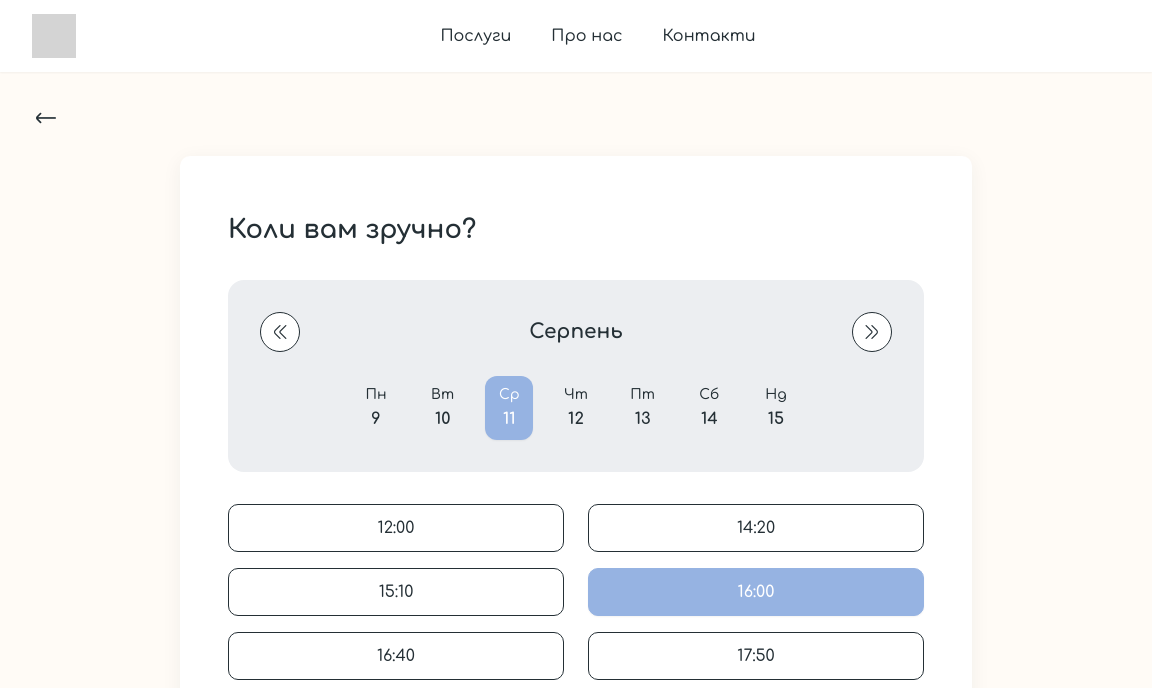
Scenario: BookingPage › renders stage 4 datetime selection, selects slot and advances to stage 5
Expected: the heading "Коли вам зручно?" is shown, [228,215,476,244]
Expected: the heading "Серпень" is shown, [529,318,623,346]
Click the button named "Чт12": [576, 408] box [552,376,600,440]
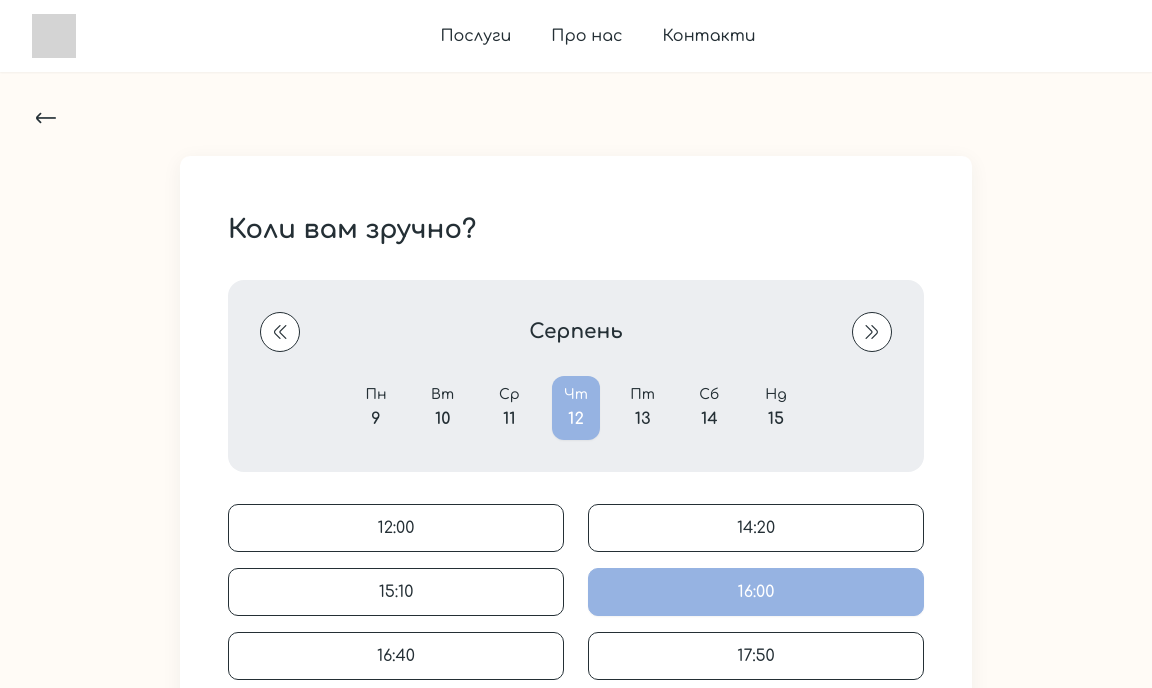
Click the radio button labelled "12:00": [396, 528] box [228,504,564,552]
(page scrolled)
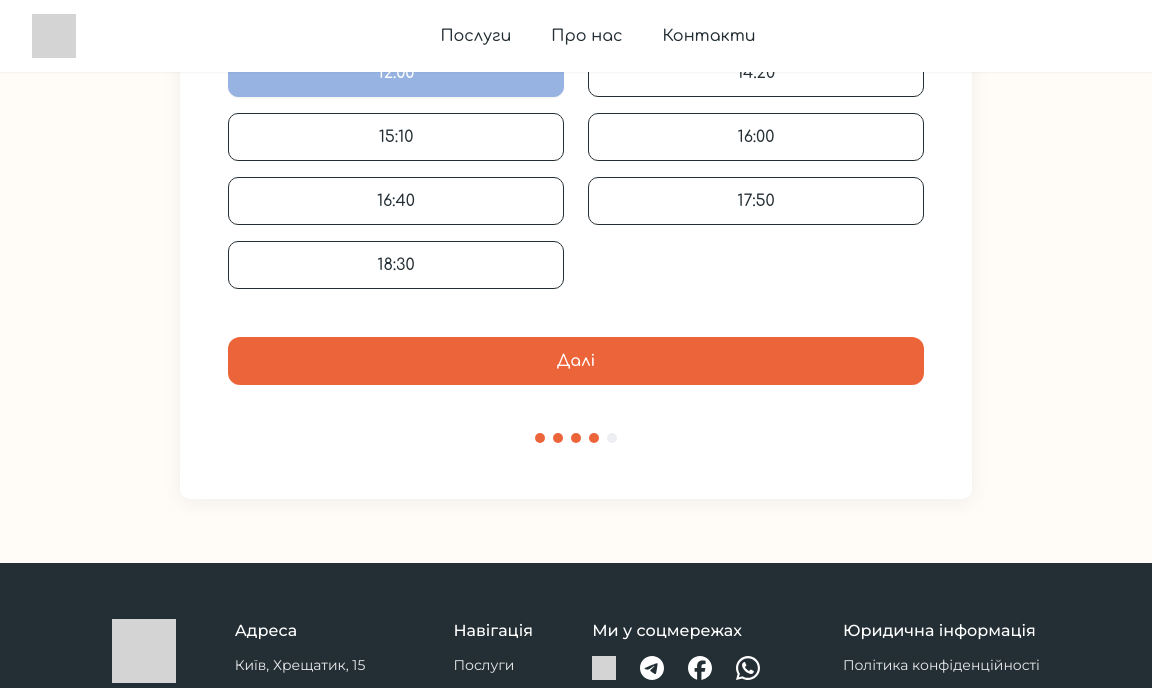
Click the button "Далі": [576, 361] box [228,337,924,385]
(page scrolled)
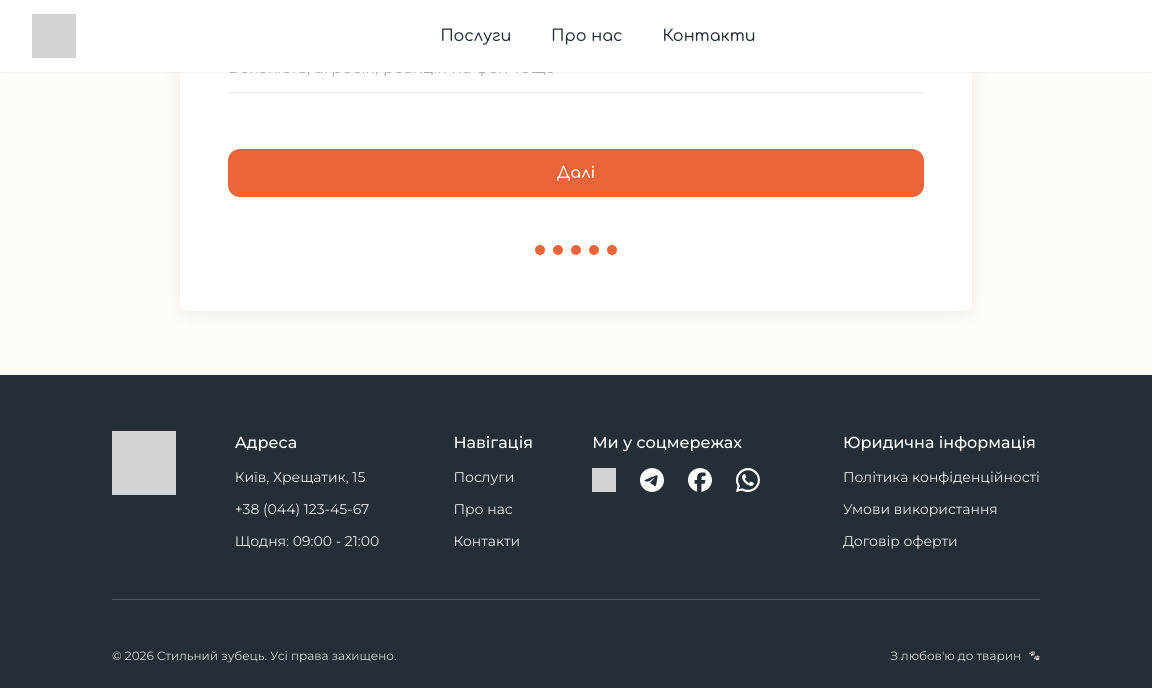
Expected: the progress indicator named "Крок 5 з 5" is shown, [535,245,617,255]
